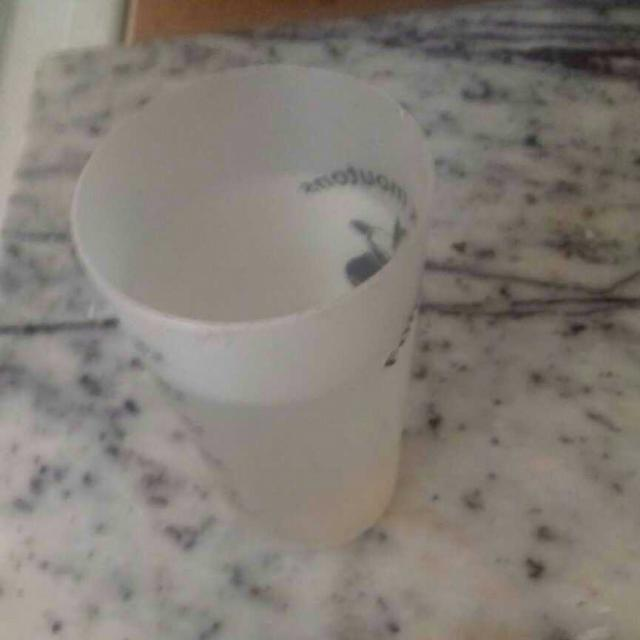water: (61, 112, 422, 562)
